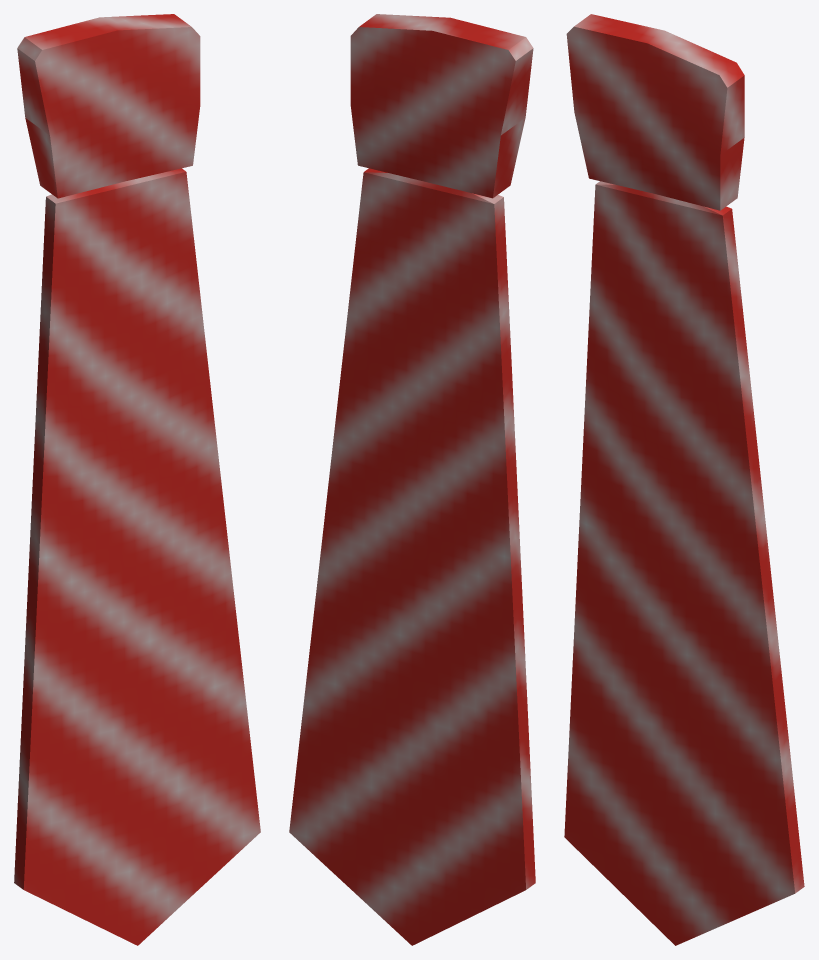
The model's file is tie_red.fbx.
3 renders of one model, left to right at view 1: azimuth 30°, elevation 25°; view 2: azimuth 150°, elevation 25°; view 3: azimuth 330°, elevation 25°, orthographic. The views are drawn at different scales.
Parts seen in each view (by area): view 1: Line001; view 2: Line001; view 3: Line001.
Boxes of the visible parts, bbox=[...] form: Line001: bbox=[14, 14, 260, 945]; Line001: bbox=[289, 14, 535, 945]; Line001: bbox=[564, 14, 804, 945].
Bounding box in the file's own units: 2.45 × 9.14 × 0.4538.
